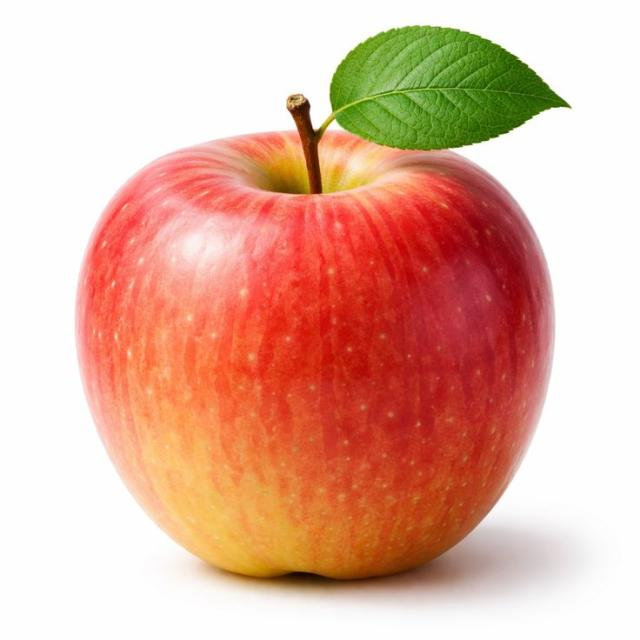apple: (77, 132, 553, 578)
